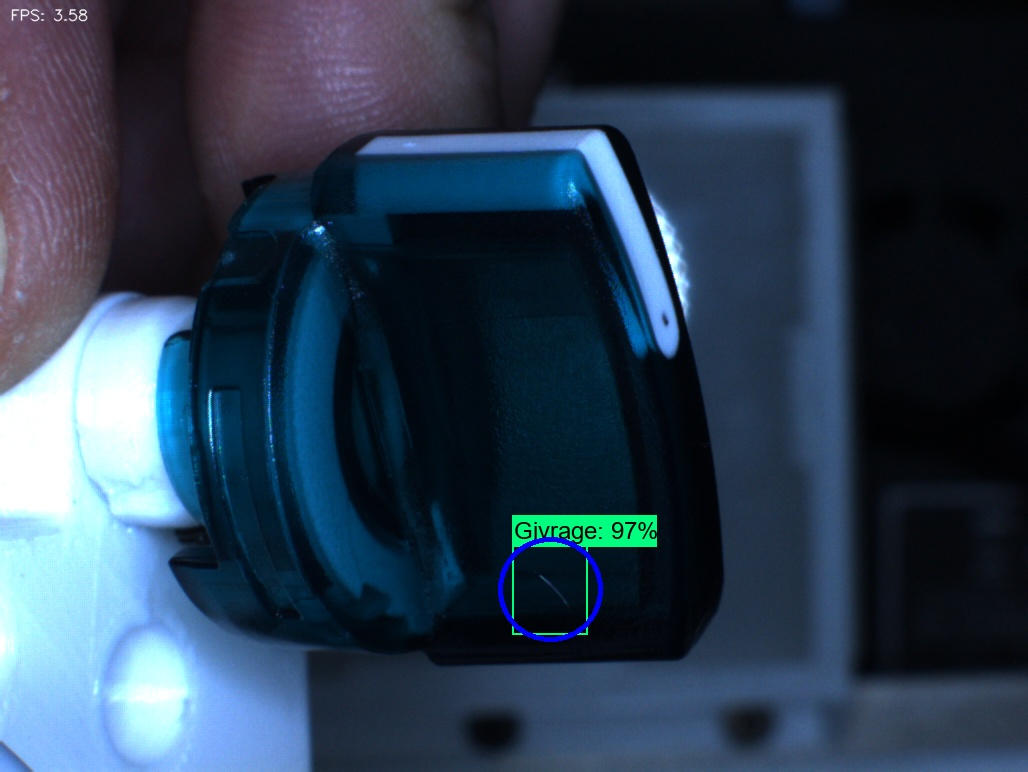PointNoir: (602, 271, 711, 373)
